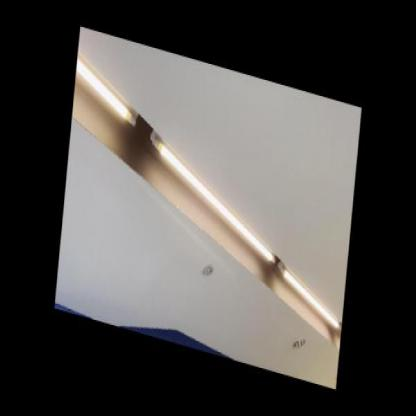light_on: (138, 125, 284, 270), (273, 249, 347, 338), (72, 48, 142, 136)
